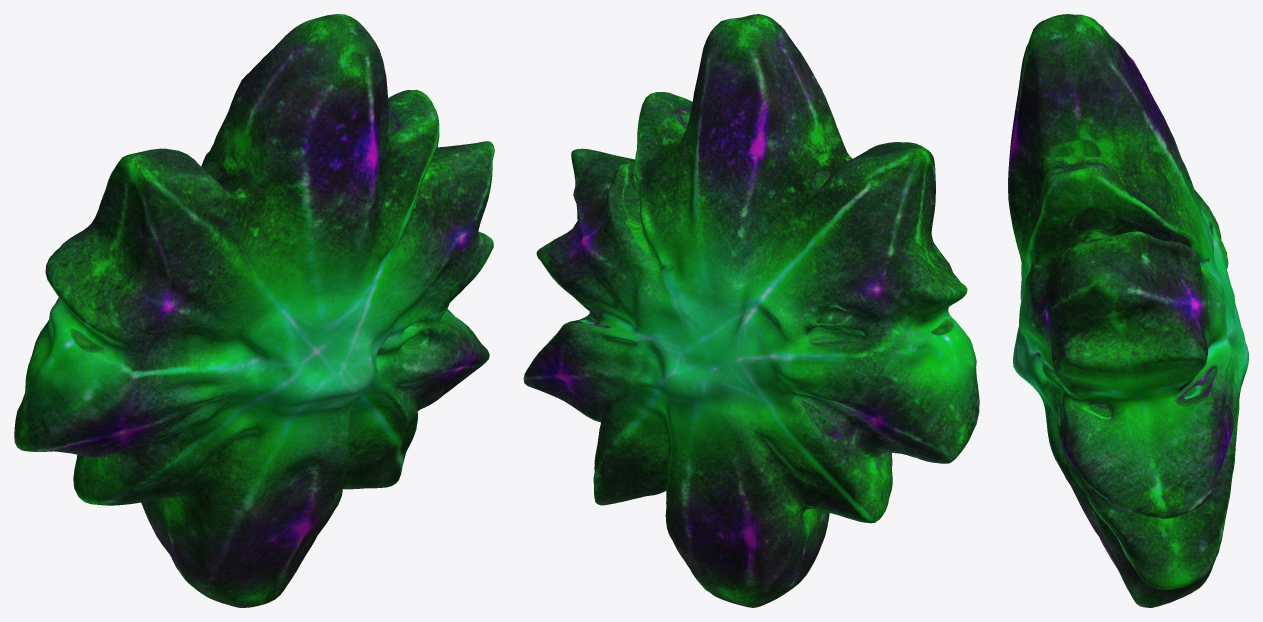
Rendered from 87f70adbf8c8_a_green_glowing_gal.fbx.
3 renders of one model, left to right at view 1: azimuth 30°, elevation 25°; view 2: azimuth 150°, elevation 25°; view 3: azimuth 270°, elevation 25°, orthographic. The views are drawn at different scales.
Visible parts, largest first — view 1: mesh; view 2: mesh; view 3: mesh.
Part boxes in pixels (x1=…): mesh: x1=14, y1=14, x2=494, y2=607; mesh: x1=523, y1=14, x2=979, y2=607; mesh: x1=1008, y1=14, x2=1248, y2=607.
Size of the model in its own units: 79.65 by 99.91 by 36.06.
